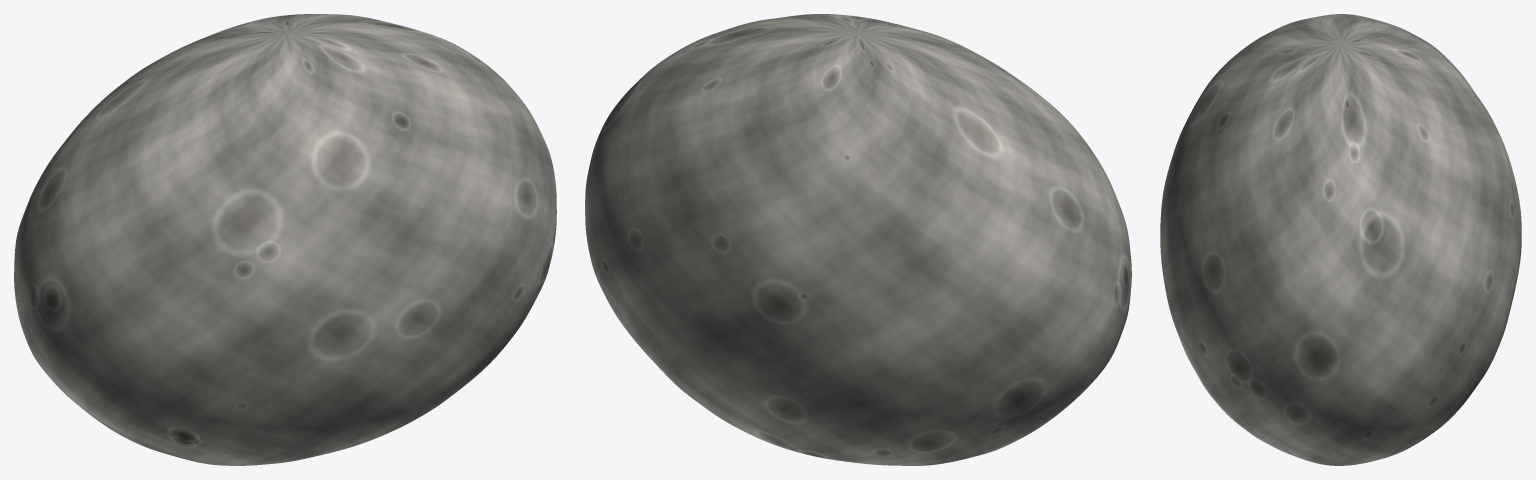
The model's file is proteus.glb.
3 renders of one model, left to right at view 1: azimuth 30°, elevation 25°; view 2: azimuth 150°, elevation 25°; view 3: azimuth 270°, elevation 25°, orthographic. The views are drawn at different scales.
Parts seen in each view (by area): view 1: Proteus_Asset; view 2: Proteus_Asset; view 3: Proteus_Asset.
Boxes of the visible parts, bbox=[...] form: Proteus_Asset: bbox=[14, 14, 556, 465]; Proteus_Asset: bbox=[585, 14, 1131, 465]; Proteus_Asset: bbox=[1160, 14, 1521, 465].
Bounding box in the file's own units: 0.5202 × 0.4017 × 0.3396.
1 material, 1 textured.
